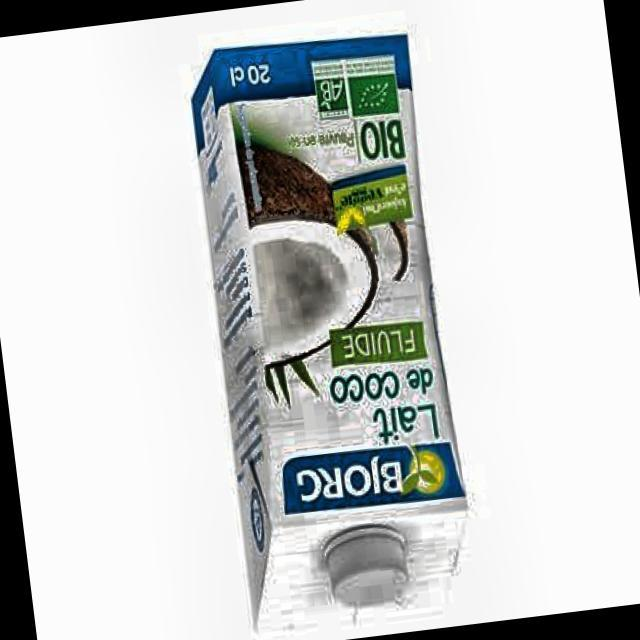cardboard: (182, 25, 483, 640)
